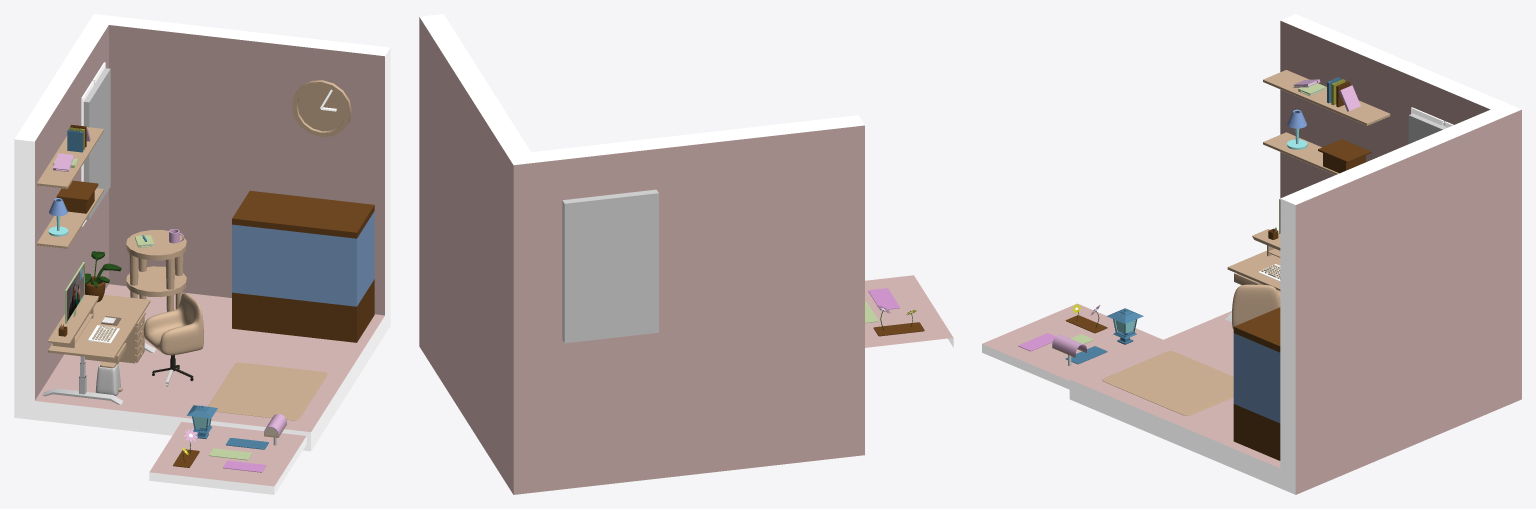
The model's file is FinalRoom.glb.
3 views of the same model, side by side, from view 1: azimuth 30°, elevation 25°; view 2: azimuth 150°, elevation 25°; view 3: azimuth 270°, elevation 25° (orthographic). The views are drawn at different scales.
Visible parts, largest first — view 1: backup, Cube.067, acvariu, Cube.078, Cube.082, Table Top, Cube.064, Cylinder.010, Cube.065, Table Top.006, Cylinder.006, Cylinder.005 (+8 smaller); view 2: backup, Cube.064, Cube.078; view 3: backup, Cube.078, Cube.082, acvariu, Cube.067, Table Top.006, Cube.065, Table Top.007, Table Top.005, Table Top, Cube.064, Plane.
Boxes of the visible parts, bbox=[...] form: backup: bbox=[14, 14, 390, 451]; Cube.067: bbox=[232, 190, 374, 342]; acvariu: bbox=[232, 211, 374, 306]; Cube.078: bbox=[149, 422, 306, 494]; Cube.082: bbox=[208, 362, 327, 420]; Table Top: bbox=[48, 294, 150, 359]; Cube.064: bbox=[83, 68, 110, 219]; Cylinder.010: bbox=[292, 80, 351, 137]; Cube.065: bbox=[143, 293, 203, 355]; Table Top.006: bbox=[37, 127, 103, 188]; Cylinder.006: bbox=[126, 230, 186, 260]; Cylinder.005: bbox=[126, 266, 186, 297]; backup: bbox=[419, 14, 864, 494]; Cube.064: bbox=[562, 189, 658, 343]; Cube.078: bbox=[865, 275, 953, 347]; backup: bbox=[1069, 14, 1521, 494]; Cube.078: bbox=[982, 303, 1162, 389]; Cube.082: bbox=[1102, 351, 1233, 415]; acvariu: bbox=[1233, 333, 1280, 423]; Cube.067: bbox=[1233, 307, 1280, 460]; Table Top.006: bbox=[1263, 70, 1390, 125]; Cube.065: bbox=[1232, 284, 1280, 329]; Table Top.007: bbox=[1318, 139, 1371, 173]; Table Top.005: bbox=[1263, 132, 1339, 174]; Table Top: bbox=[1227, 250, 1280, 290]; Cube.064: bbox=[1408, 113, 1446, 143]; Plane: bbox=[1106, 308, 1143, 344].
Size of the model in its own units: 16.41 by 11.6 by 19.59.
Materials: 24 (1 with a texture image).
